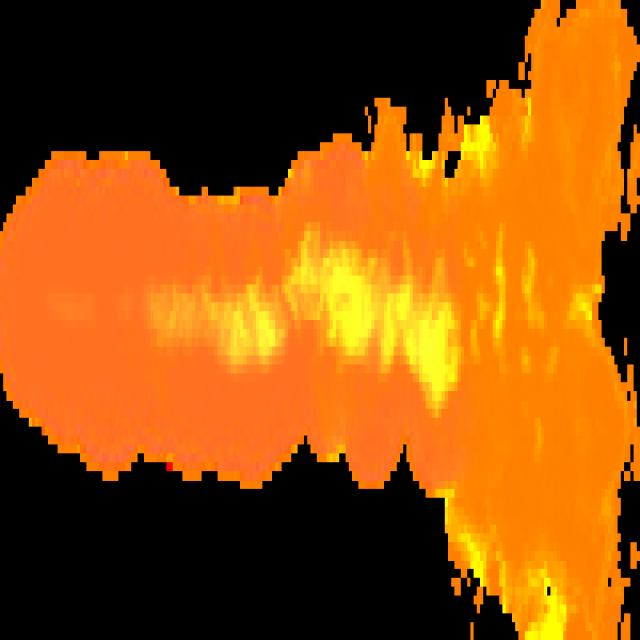fire: (0, 30, 603, 498)
